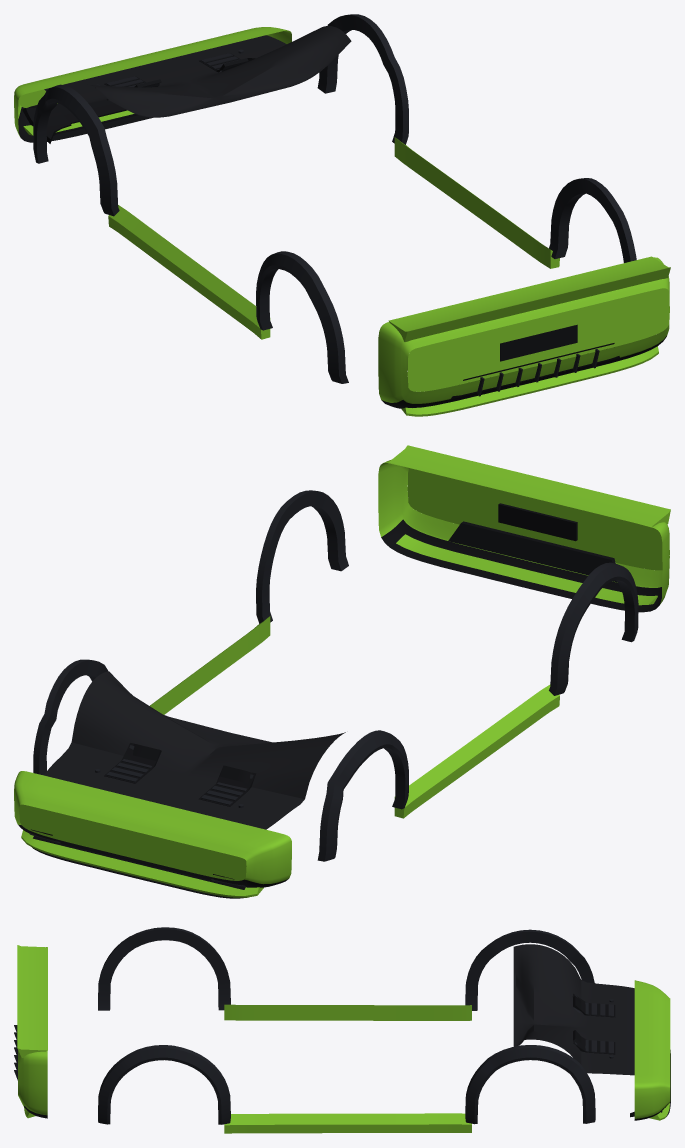
The model's file is kit_drift.glb.
3 renders of one model, top to bottom at view 1: azimuth 30°, elevation 25°; view 2: azimuth 150°, elevation 25°; view 3: azimuth 270°, elevation 25°, orthographic. The views are drawn at different scales.
Visible parts, largest first — view 1: skirts__drift, bumper_front__drift, bumper_rear__drift, hood__drift, spoiler__drift; view 2: bumper_front__drift, hood__drift, skirts__drift, bumper_rear__drift, spoiler__drift; view 3: skirts__drift, hood__drift, bumper_front__drift, spoiler__drift, bumper_rear__drift.
Boxes of the visible parts, <box> form: skirts__drift: <box>33,14,636,383</box>; bumper_front__drift: <box>14,27,669,391</box>; bumper_rear__drift: <box>378,257,669,416</box>; hood__drift: <box>44,26,351,117</box>; spoiler__drift: <box>388,256,670,341</box>; bumper_front__drift: <box>14,468,662,898</box>; hood__drift: <box>44,671,345,829</box>; skirts__drift: <box>33,490,638,861</box>; bumper_rear__drift: <box>378,459,669,612</box>; spoiler__drift: <box>389,445,670,526</box>; skirts__drift: <box>98,927,595,1133</box>; hood__drift: <box>513,944,634,1075</box>; bumper_front__drift: <box>630,980,670,1120</box>; spoiler__drift: <box>17,945,47,1057</box>; bumper_rear__drift: <box>14,947,47,1118</box>.
Size of what is drawn, in the model's own units: 2.22 by 0.7602 by 4.94.
